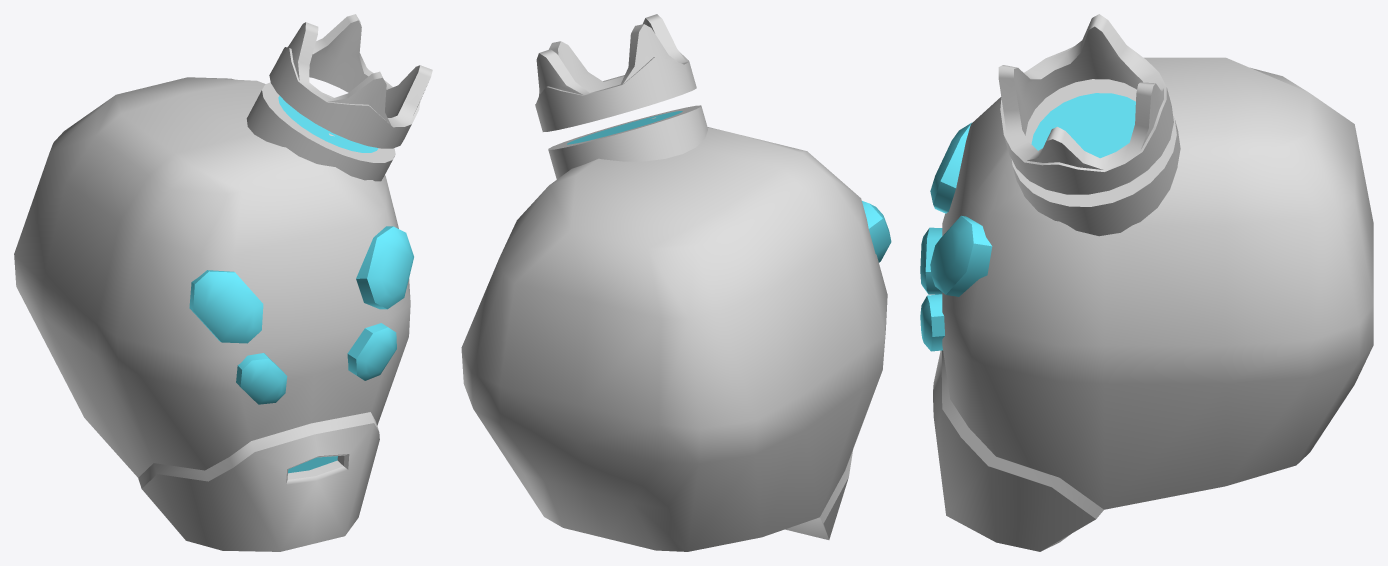
Rendered from Head_Queen.FBX.
3 views of the same model, side by side, from view 1: azimuth 30°, elevation 25°; view 2: azimuth 150°, elevation 25°; view 3: azimuth 270°, elevation 25° (orthographic). The views are drawn at different scales.
Parts seen in each view (by area): view 1: Head_Queen; view 2: Head_Queen; view 3: Head_Queen.
Boxes of the visible parts, box(x1,y1,x2,y2) form: Head_Queen: box(14, 14, 432, 551); Head_Queen: box(461, 14, 891, 551); Head_Queen: box(920, 14, 1373, 551).
Bounding box in the file's own units: 260 × 367 × 288.
